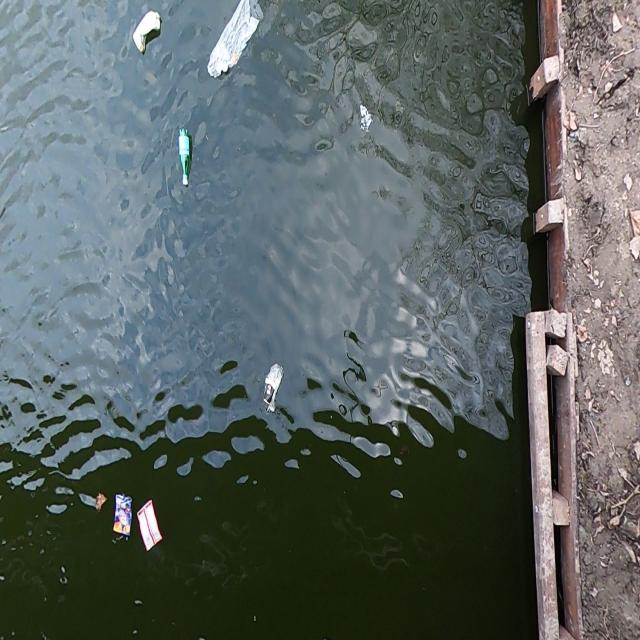Autre plastique: (136, 498, 164, 555), (111, 489, 135, 538)
Bouteille plastique: (174, 124, 194, 190)
Non plastique: (260, 378, 277, 407)
Sac plastique: (203, 0, 264, 82)
